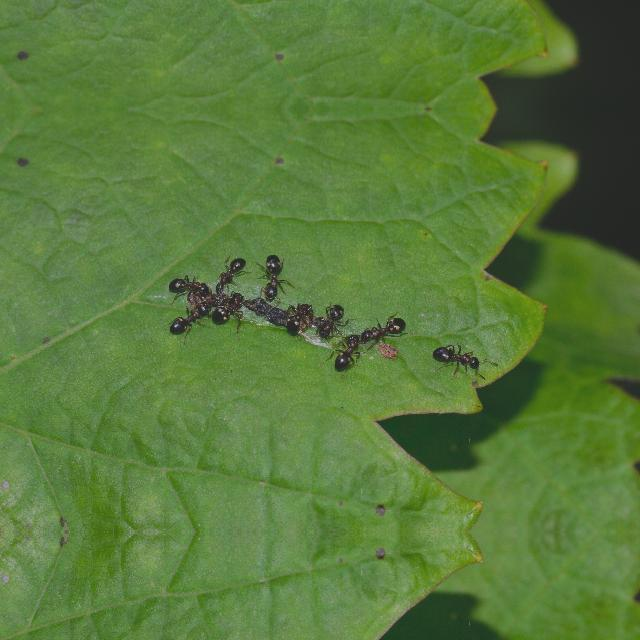Dolichoderus: (428, 339, 490, 375), (256, 250, 296, 298), (207, 252, 249, 292), (358, 312, 410, 343), (328, 328, 366, 370), (165, 301, 213, 333), (317, 301, 353, 339), (210, 288, 250, 322), (283, 297, 317, 331), (168, 272, 212, 296)
